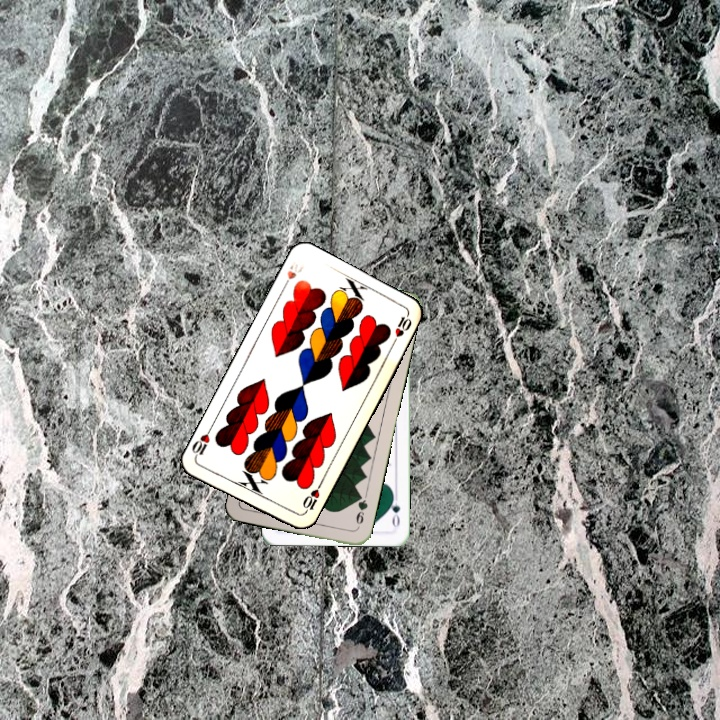G9: (352, 489, 370, 531)
GO: (386, 490, 403, 530)
H10: (298, 479, 325, 517), (278, 257, 307, 292)
